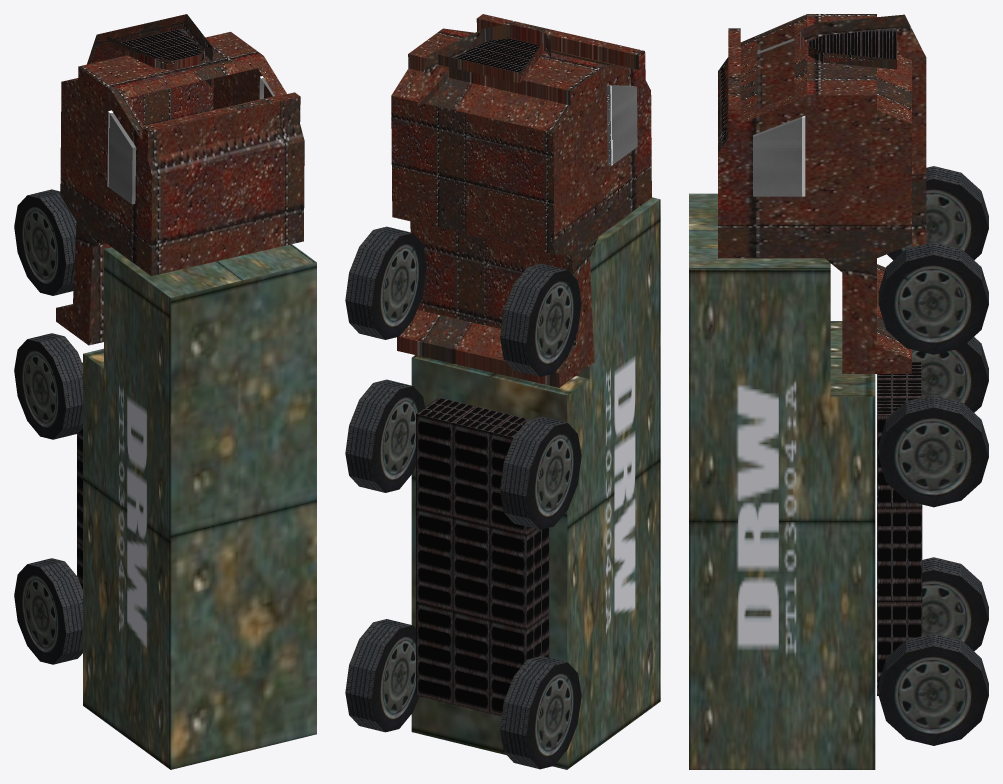
File: Truck6wheeler_wtf.obj
3 views of the same model, side by side, from view 1: azimuth 30°, elevation 25°; view 2: azimuth 150°, elevation 25°; view 3: azimuth 270°, elevation 25° (orthographic). The views are drawn at different scales.
Visible parts, largest first — view 1: group20, group22, group11, group5, group18, group4, group10, group23, group17, group16, group21; view 2: group22, group20, group21, group5, group18, group11, group14, group8, group2, group17, group1, group10 (+5 smaller); view 3: group20, group22, group21, group3, group15, group9, group6, group23, group19, group12, group16, group1 (+4 smaller).
Boxes of the visible parts, x1,y1,x2,y2 form: group20: [83, 244, 316, 769]; group22: [56, 14, 304, 345]; group11: [14, 339, 65, 439]; group5: [14, 564, 65, 664]; group18: [14, 195, 65, 295]; group4: [27, 558, 82, 664]; group10: [27, 333, 82, 439]; group23: [107, 76, 274, 204]; group17: [28, 189, 76, 295]; group16: [121, 28, 201, 60]; group21: [77, 362, 82, 589]; group22: [391, 14, 651, 387]; group20: [411, 197, 660, 769]; group21: [416, 397, 549, 716]; group5: [526, 662, 581, 769]; group18: [526, 270, 581, 376]; group11: [526, 423, 581, 529]; group14: [371, 233, 426, 339]; group8: [371, 386, 424, 492]; group2: [371, 625, 419, 732]; group17: [500, 263, 566, 376]; group1: [345, 619, 412, 731]; group10: [500, 416, 566, 529]; group20: [689, 193, 875, 769]; group22: [718, 14, 926, 373]; group21: [877, 361, 922, 695]; group3: [878, 646, 988, 745]; group15: [878, 255, 988, 354]; group9: [878, 407, 988, 507]; group6: [922, 570, 988, 651]; group23: [753, 38, 805, 196]; group19: [887, 179, 988, 260]; group12: [912, 343, 988, 412]; group16: [808, 28, 896, 59]; group1: [878, 633, 988, 695].
Bounding box in the file's own units: 180 × 660 × 259.
